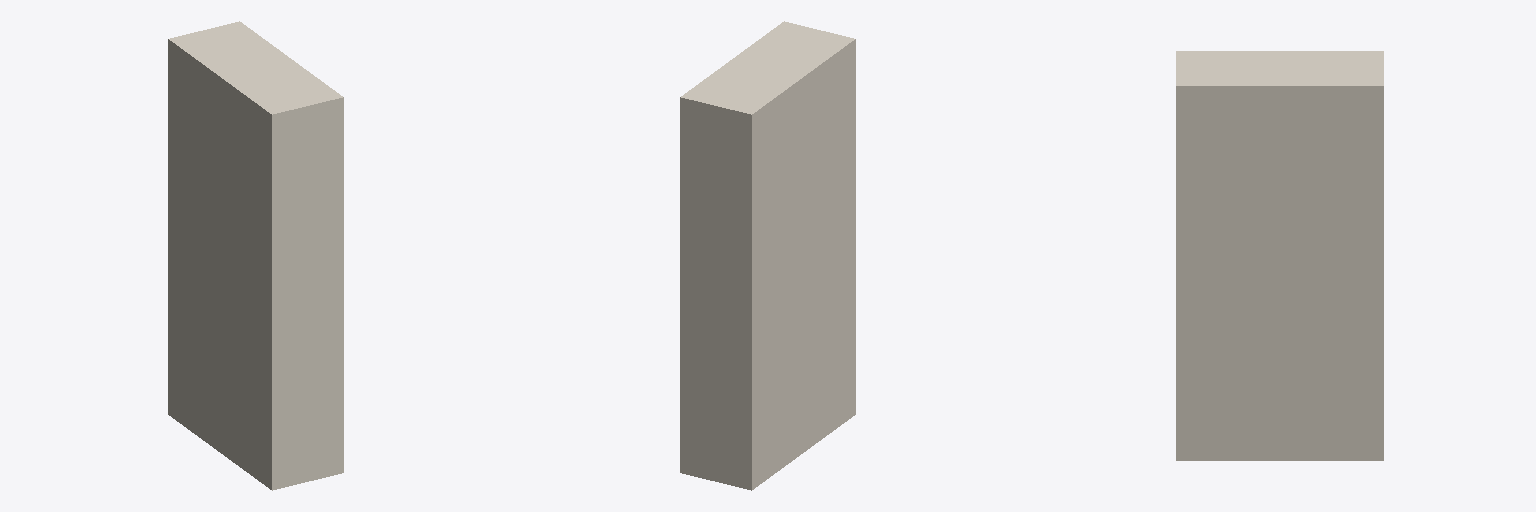
3 renders of one model, left to right at view 1: azimuth 30°, elevation 25°; view 2: azimuth 150°, elevation 25°; view 3: azimuth 270°, elevation 25°, orthographic.
Visible parts, largest first — view 1: pages; view 2: pages; view 3: pages.
Part boxes in pixels (bbox=[...]): pages: bbox=[168, 21, 343, 490]; pages: bbox=[680, 21, 855, 490]; pages: bbox=[1176, 51, 1383, 460].
Bounding box in the file's own units: 0.0938 × 0.4688 × 0.2344.
Materials: 1 (1 with a texture image).